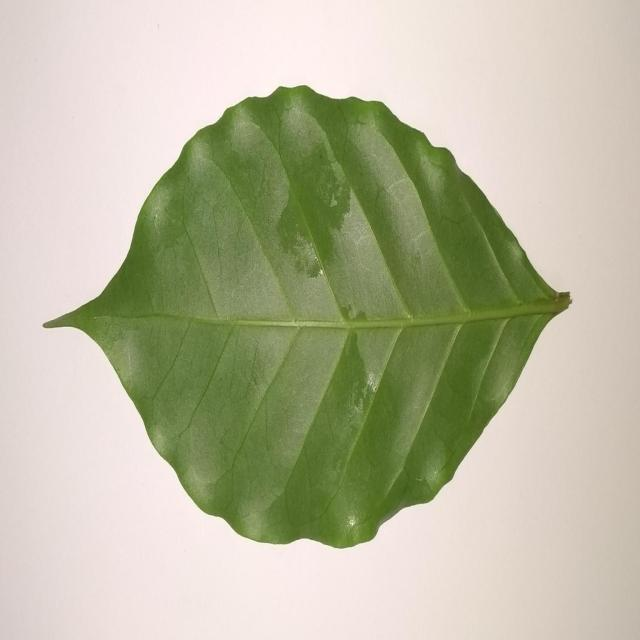Sanas: (43, 86, 572, 551)
